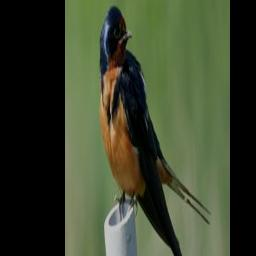Swallow: (98, 0, 211, 256)
